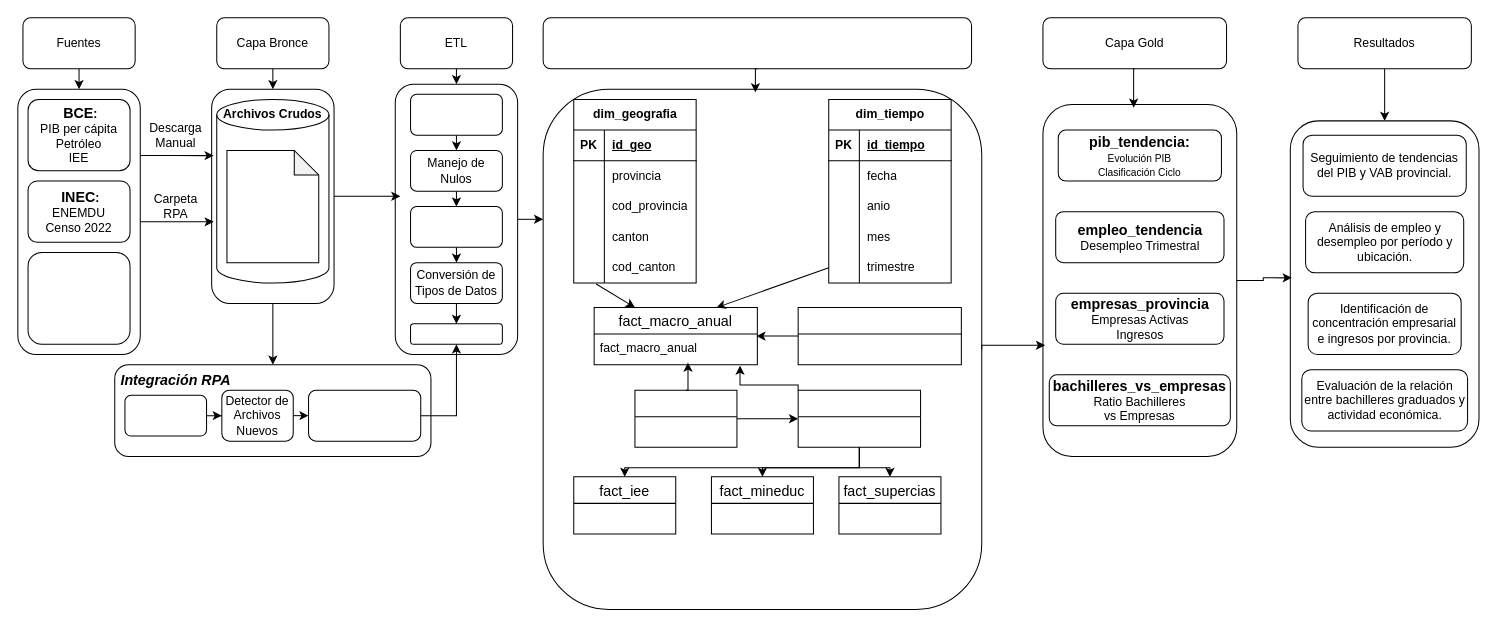
This 1497x627 diagram has some shape labels left out. The centre of each missing label's shape, as x and y in pixels:
.xlsx .csv .xlsx .csv .xlsx .csv: (272,206)
Agregación Manual: (165,415)
Capa Silver: (757,43)
Disparo de Reprocesamiento: (364,415)
Eliminación de Duplicados: (456,226)
fact_empleo: (685,418)
fact_indicadores_diarios: (879,336)
fact_vab_prov_ind: (859,418)
Normalización: (456,333)
Renombrado de Columnas: (456,114)
Supercias y MinEduc : Ranking Supercias AMIE Bachilleres: (78,297)
